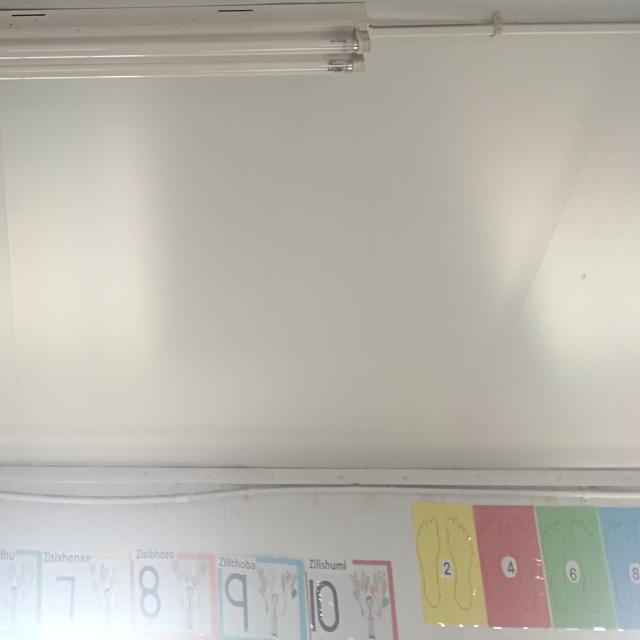fluorescent tube: (0, 0, 383, 106)
